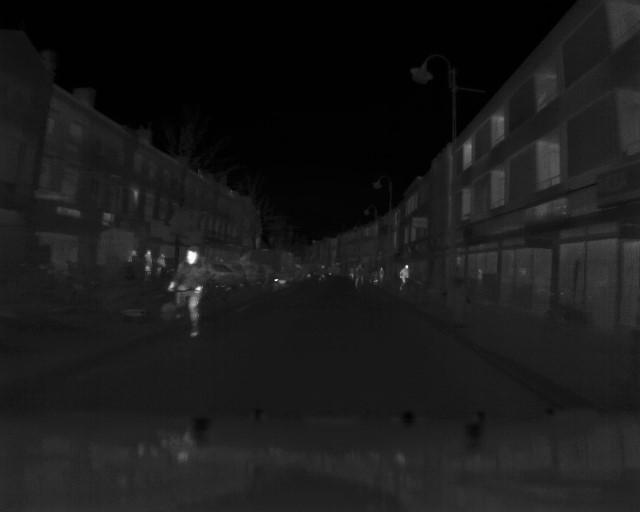person: (168, 245, 208, 338), (399, 262, 411, 294), (144, 248, 154, 282)
